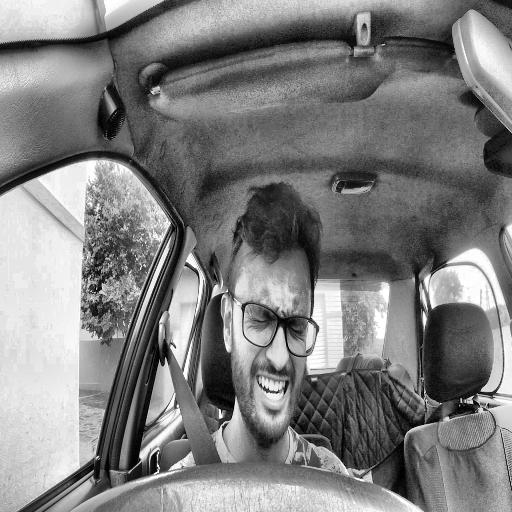drowsy: (220, 180, 322, 450)
